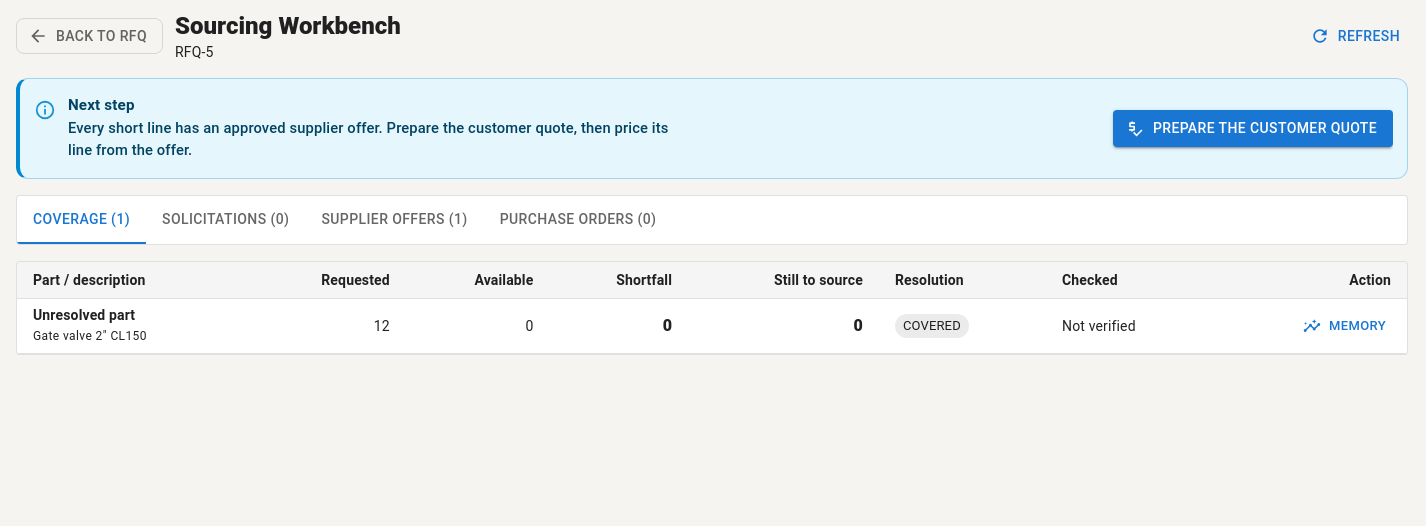
an approved award and no customer quote draft › gives the disabled row control a reason a screen reader can hear
Click the tab "Supplier offers (1)". click: (394, 220)
box: [305,196,484,244]
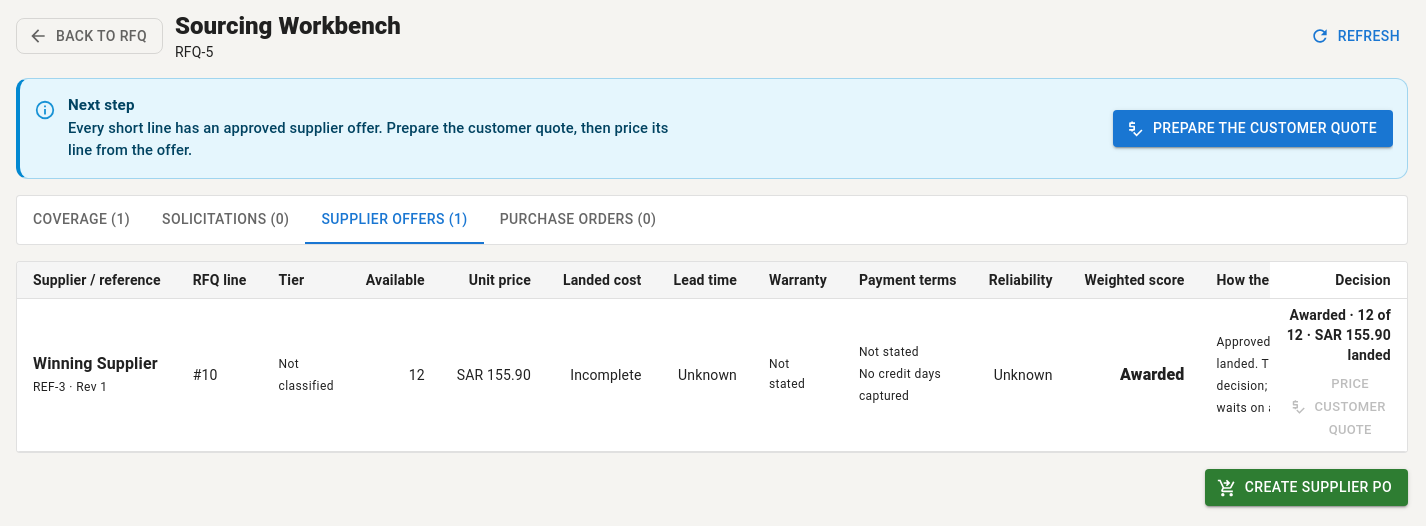
Expected: the button "Price customer quote" is disabled, [1286,369,1391,445]
